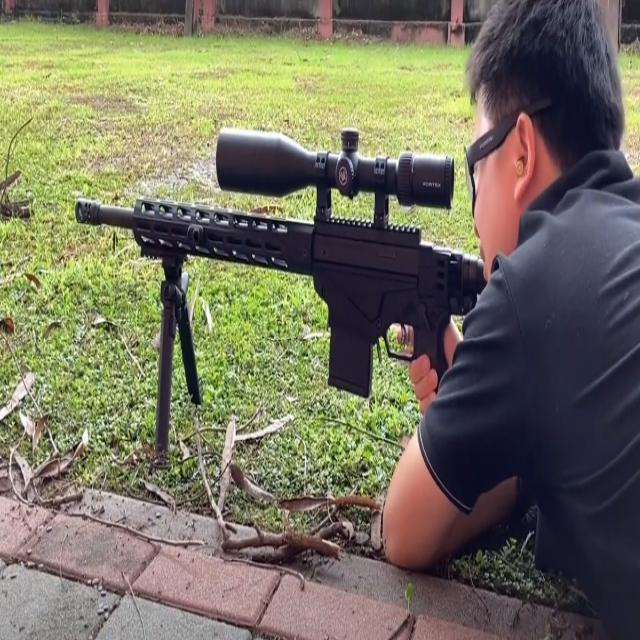rifle: (73, 120, 494, 471)
